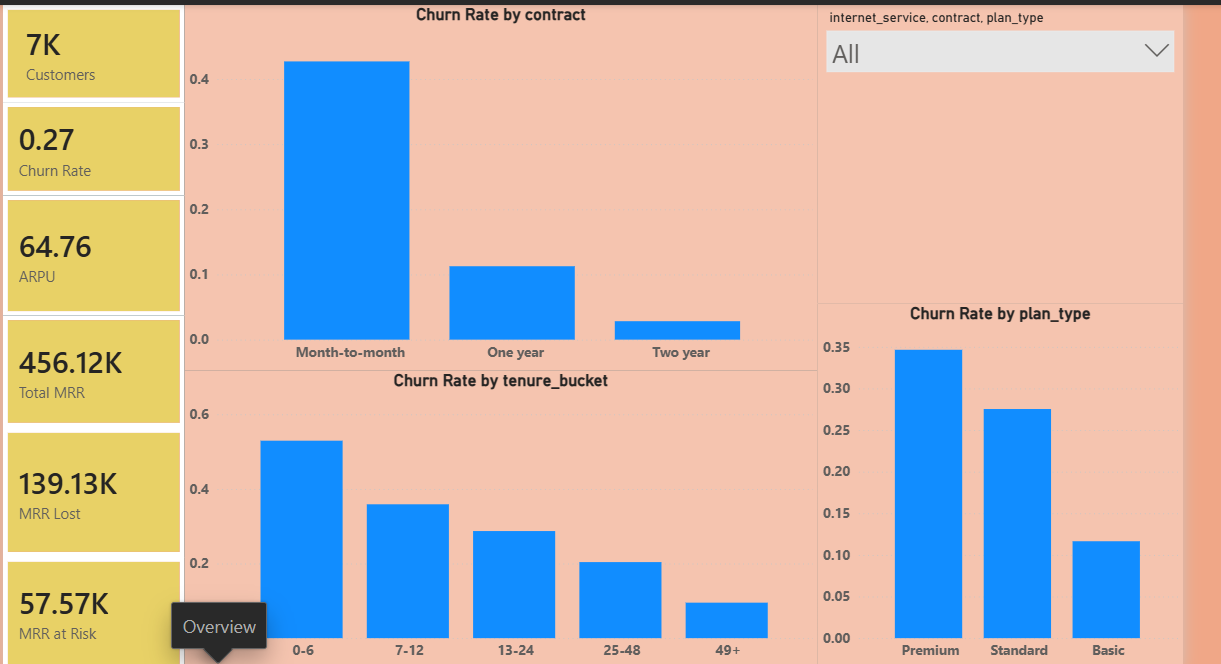

Layout of this report page (visuals, bound fields, positions):
{"tool":"powerbi","page":{"name":"Overview","canvas":[1280,720],"ordinal":0},"visuals":[{"type":"cardVisual","fields":{"Data":["Customers.Customers"]},"box":[0,0,196.8,105.7],"z":0},{"type":"cardVisual","fields":{"Data":["Customers.Churn Rate"]},"box":[0,105.7,196.8,100.8],"z":1000},{"type":"cardVisual","fields":{"Data":["Customers.ARPU"]},"box":[0,206.6,196.8,130.1],"z":2000},{"type":"cardVisual","fields":{"Data":["Customers.Total MRR"]},"box":[0,336.7,196.8,122],"z":3000},{"type":"cardVisual","fields":{"Data":["Customers.MRR Lost"]},"box":[0,458.7,196.8,139.9],"z":4000},{"type":"cardVisual","fields":{"Data":["Customers.MRR at Risk"]},"box":[0,598.6,196.8,122],"z":5000},{"type":"clusteredColumnChart","fields":{"Category":["Customers.contract"],"Y":["Customers.Churn Rate"]},"box":[196.8,0,686.4,396.9],"z":6000},{"type":"clusteredColumnChart","fields":{"Category":["Customers.tenure_bucket"],"Y":["Customers.Churn Rate"]},"box":[196.8,396.9,686.4,323.7],"z":7000},{"type":"clusteredColumnChart","fields":{"Category":["Customers.plan_type"],"Y":["Customers.Churn Rate"]},"box":[883.2,323.7,396.9,396.9],"z":8000},{"type":"slicer","fields":{"Values":["Customers.internet_service","Customers.contract","Customers.plan_type"]},"box":[883.2,0,396.9,323.7],"z":9000}]}

Visuals, with their boxes on the page's 1280x720 design canvas (x1, y1, x2, y2). These are canvas units, not pixel positions in the 1221x664 screenshot, which may show the page scaled, cropped or inside an application window:
cardVisual - Customers.Customers: (0, 0, 197, 106)
cardVisual - Customers.Churn Rate: (0, 106, 197, 206)
cardVisual - Customers.ARPU: (0, 207, 197, 337)
cardVisual - Customers.Total MRR: (0, 337, 197, 459)
cardVisual - Customers.MRR Lost: (0, 459, 197, 599)
cardVisual - Customers.MRR at Risk: (0, 599, 197, 721)
clusteredColumnChart - Customers.contract x Customers.Churn Rate: (197, 0, 883, 397)
clusteredColumnChart - Customers.tenure_bucket x Customers.Churn Rate: (197, 397, 883, 721)
clusteredColumnChart - Customers.plan_type x Customers.Churn Rate: (883, 324, 1280, 721)
slicer - Customers.internet_service x Customers.contract: (883, 0, 1280, 324)
